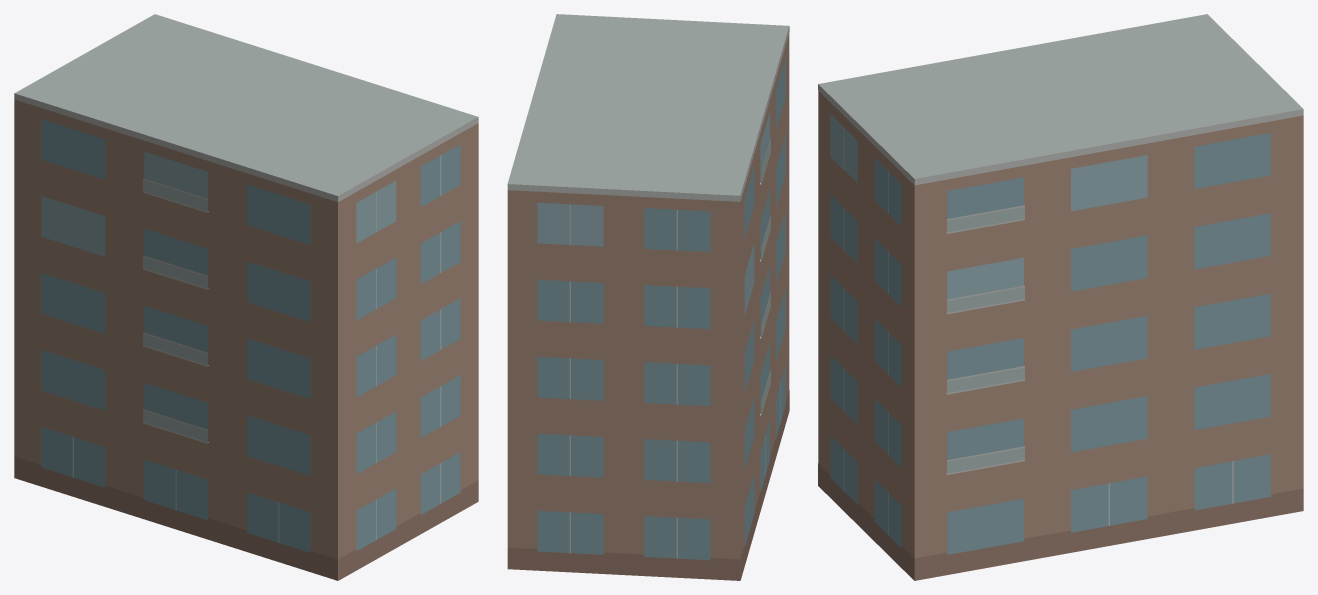
Rendered from survey-upis-32946940.glb.
The picture shows the model from 3 angles, left to right: view 1: azimuth 30°, elevation 25°; view 2: azimuth 150°, elevation 25°; view 3: azimuth 270°, elevation 25°; orthographic projection. The views are drawn at different scales.
Visible parts, largest first — view 1: survey-upis-32946940.tmp; view 2: survey-upis-32946940.tmp; view 3: survey-upis-32946940.tmp.
Boxes of the visible parts, bbox=[...] form: survey-upis-32946940.tmp: bbox=[14, 14, 478, 580]; survey-upis-32946940.tmp: bbox=[507, 14, 789, 580]; survey-upis-32946940.tmp: bbox=[818, 14, 1303, 580].
Bounding box in the file's own units: 13.67 × 15.5 × 16.99.
